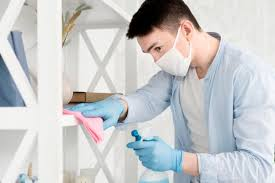with-mask: (126, 6, 204, 84)
